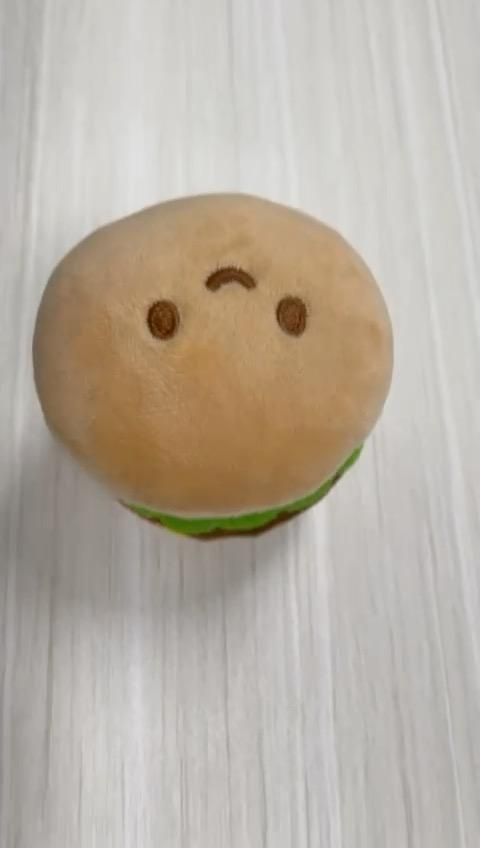hamburger: (31, 191, 396, 543)
